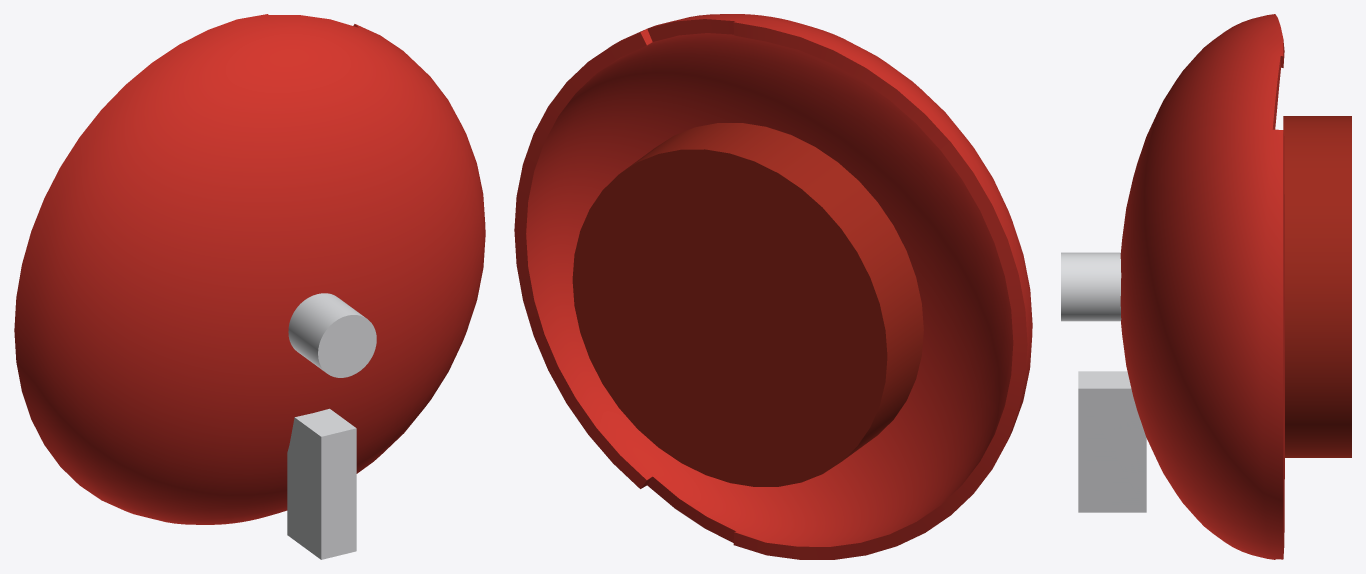
File: FireBell.fbx
The picture shows the model from 3 angles, left to right: view 1: azimuth 30°, elevation 25°; view 2: azimuth 150°, elevation 25°; view 3: azimuth 270°, elevation 25°; orthographic projection. The views are drawn at different scales.
Parts seen in each view (by area): view 1: FireBell; view 2: FireBell; view 3: FireBell.
Boxes of the visible parts, x1,y1,x2,y2 form: FireBell: (14,14,485,559); FireBell: (514,14,1032,559); FireBell: (1061,14,1351,559).
Size of the model in its own units: 0.1593 by 0.16 by 0.085.
